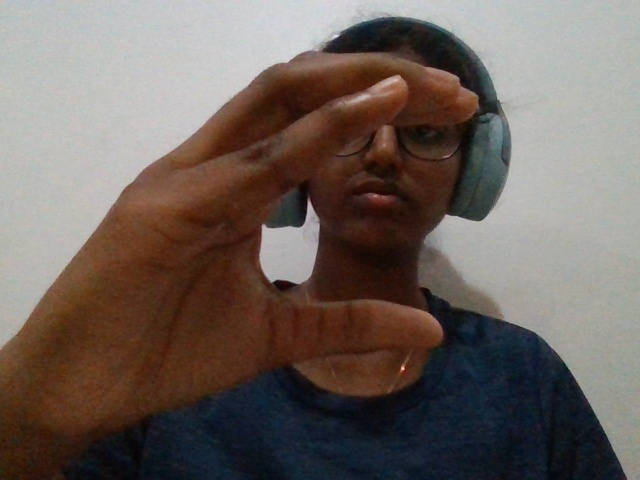C: (16, 1, 499, 480)
